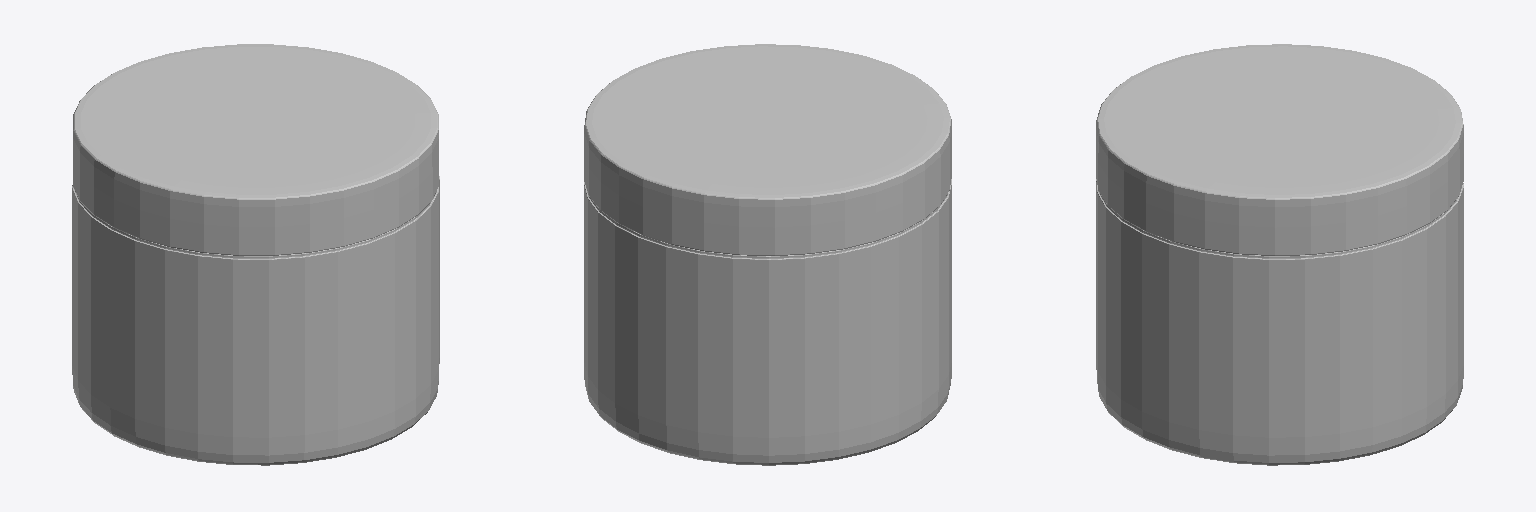
The model's file is Elysium_Basis_v01.obj.
3 renders of one model, left to right at view 1: azimuth 30°, elevation 25°; view 2: azimuth 150°, elevation 25°; view 3: azimuth 270°, elevation 25°, orthographic.
Parts seen in each view (by area): view 1: Base, Top_on; view 2: Base, Top_on; view 3: Base, Top_on.
Boxes of the visible parts, x1,y1,x2,y2 form: Base: [72, 176, 439, 465]; Top_on: [73, 44, 438, 255]; Base: [584, 179, 951, 465]; Top_on: [584, 44, 951, 255]; Base: [1096, 179, 1463, 465]; Top_on: [1096, 44, 1463, 255].
Bounding box in the file's own units: 6.92 × 5.62 × 6.92.